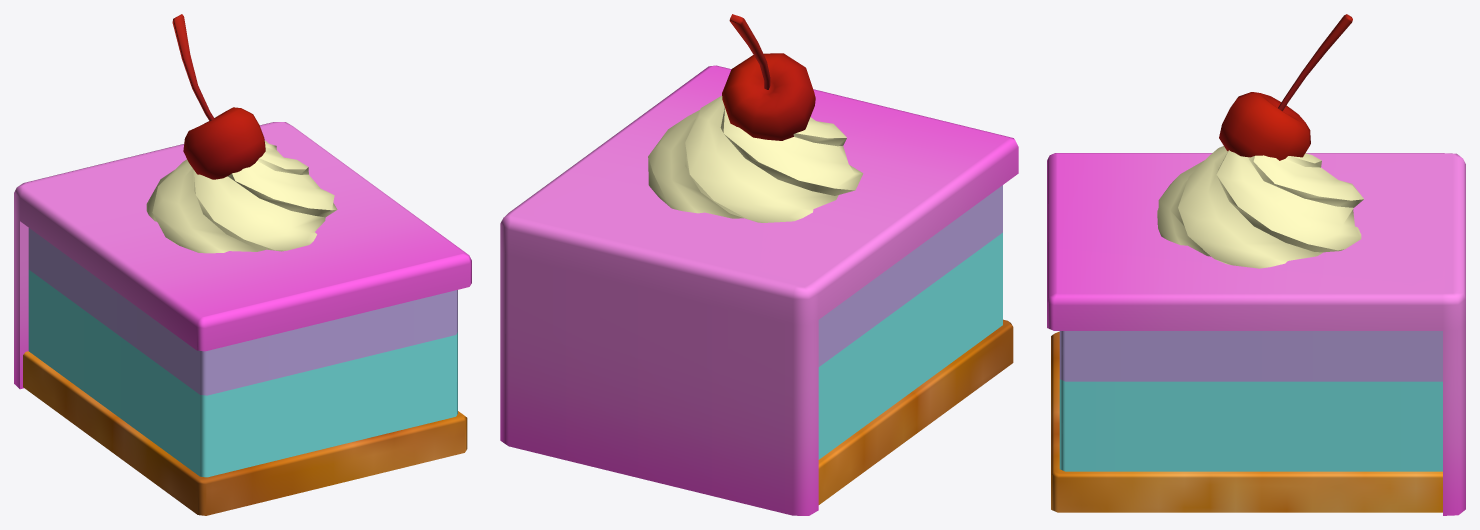
Rendered from Cake_2.fbx.
The picture shows the model from 3 angles, left to right: view 1: azimuth 30°, elevation 25°; view 2: azimuth 150°, elevation 25°; view 3: azimuth 270°, elevation 25°; orthographic projection. The views are drawn at different scales.
Parts seen in each view (by area): view 1: Cake_2; view 2: Cake_2; view 3: Cake_2.
Boxes of the visible parts, x1,y1,x2,y2 form: Cake_2: (14,14,471,515); Cake_2: (500,14,1018,515); Cake_2: (1047,14,1465,515).
Bounding box in the file's own units: 8.95 × 11.73 × 10.71.
